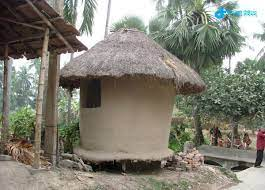Mud House: (59, 18, 206, 173)
